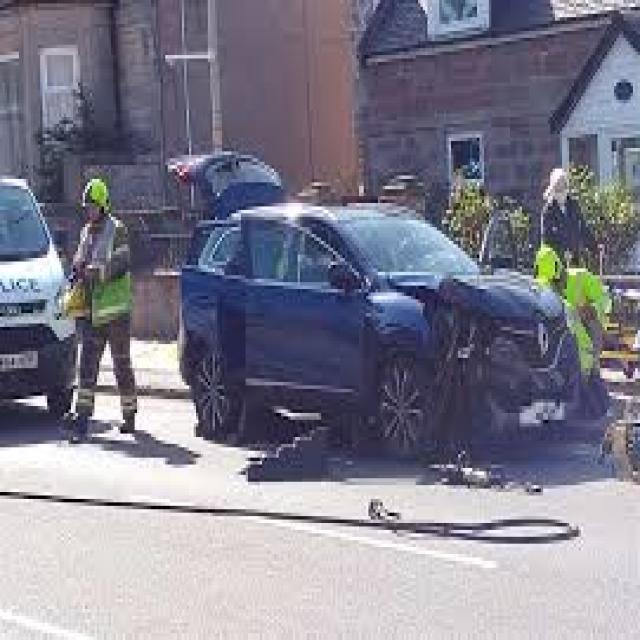accident: (160, 147, 589, 456)
